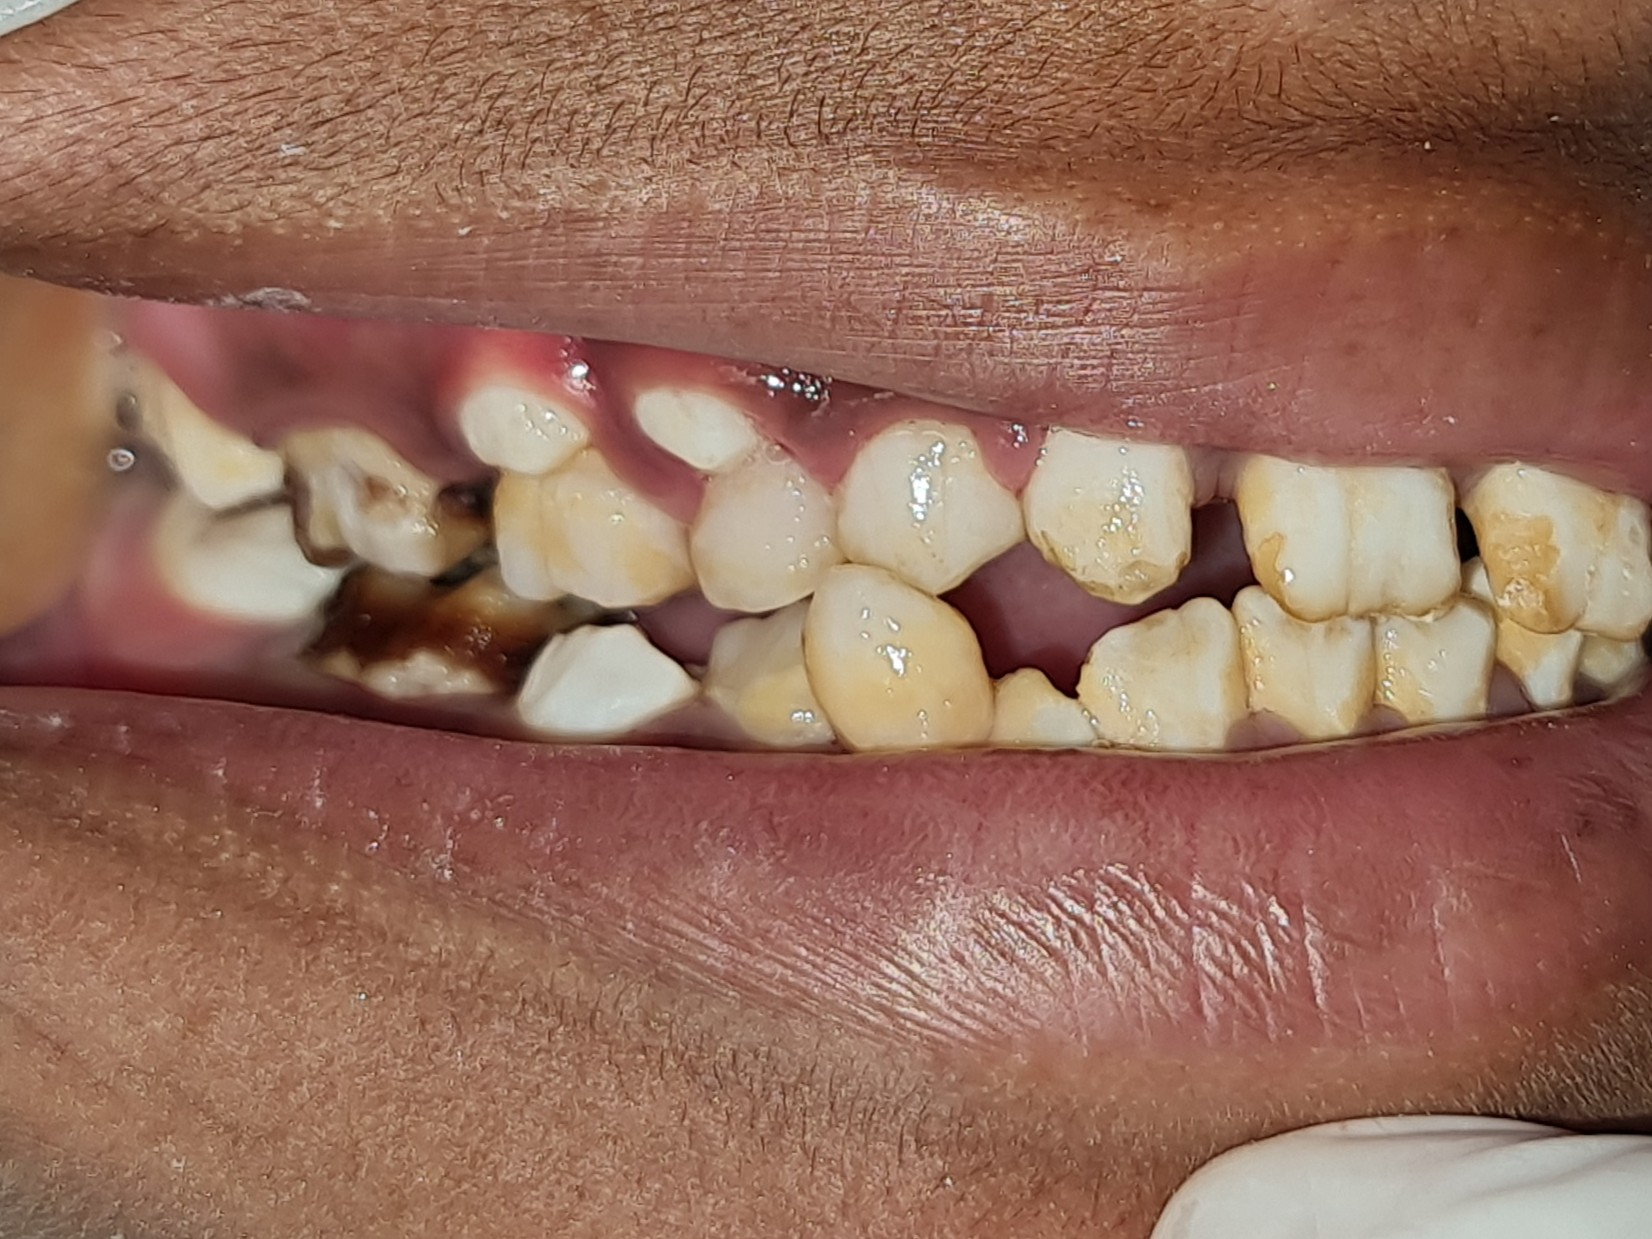D: (300, 564, 595, 713), (272, 426, 492, 577)
